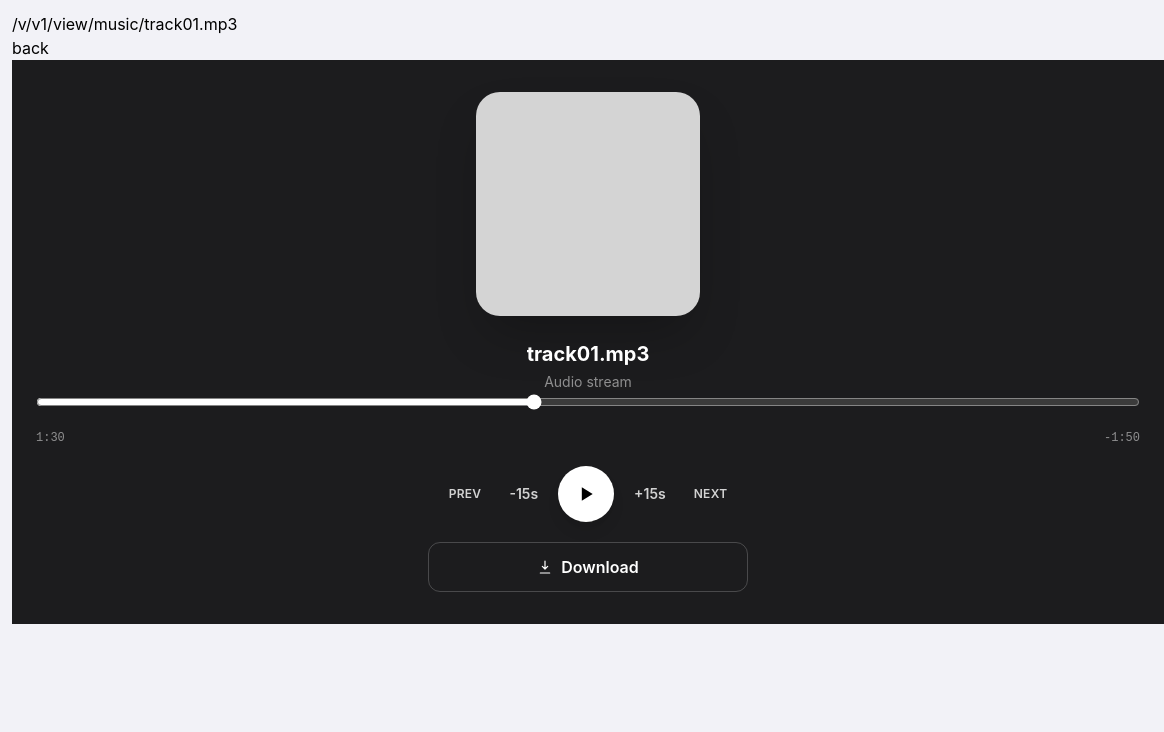
Scenario: AudioPlayerPage › updates the whole player surface and download target with the track
Click the button with test id "audio-next" at (711, 494), box top-left (686, 474), bottom-right (735, 514)
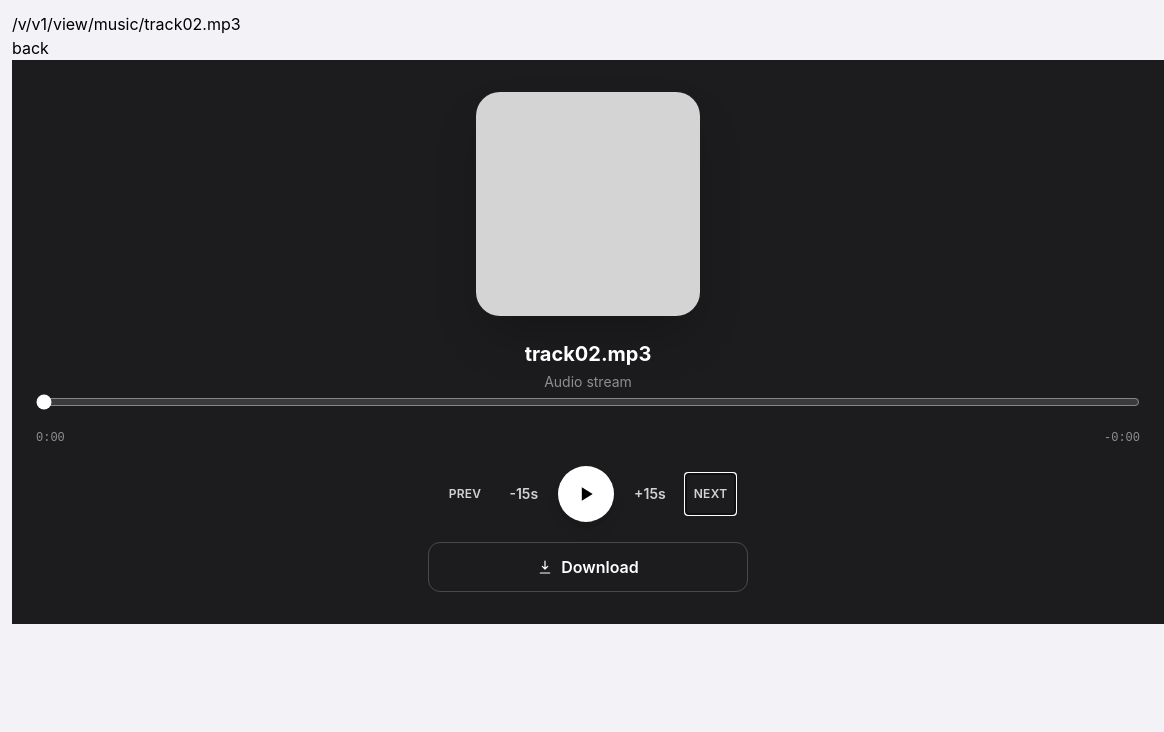
Result: the heading with test id "audio-title" reads "track02.mp3" at top-left (525, 342), bottom-right (651, 366)
Result: the text with test id "audio-elapsed" reads "0:00" at top-left (36, 431), bottom-right (65, 445)
Result: the text with test id "audio-remaining" reads "-0:00" at top-left (1104, 430), bottom-right (1140, 446)
